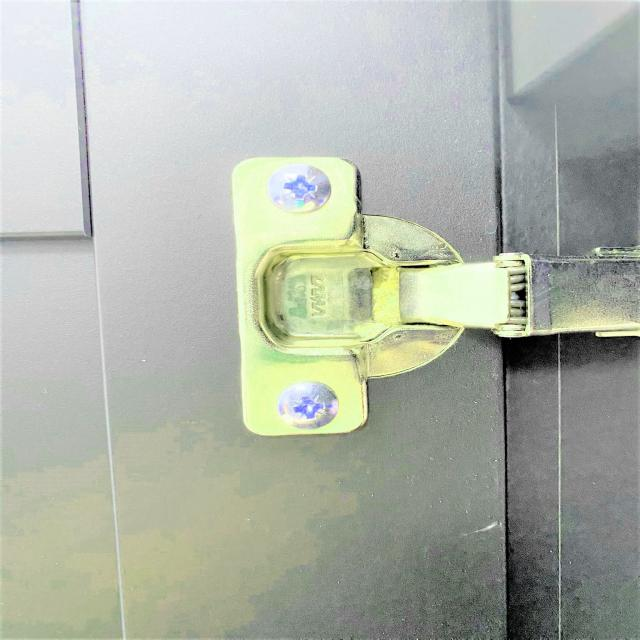PhillipsScrewHead: (267, 162, 331, 214), (276, 381, 340, 430)
